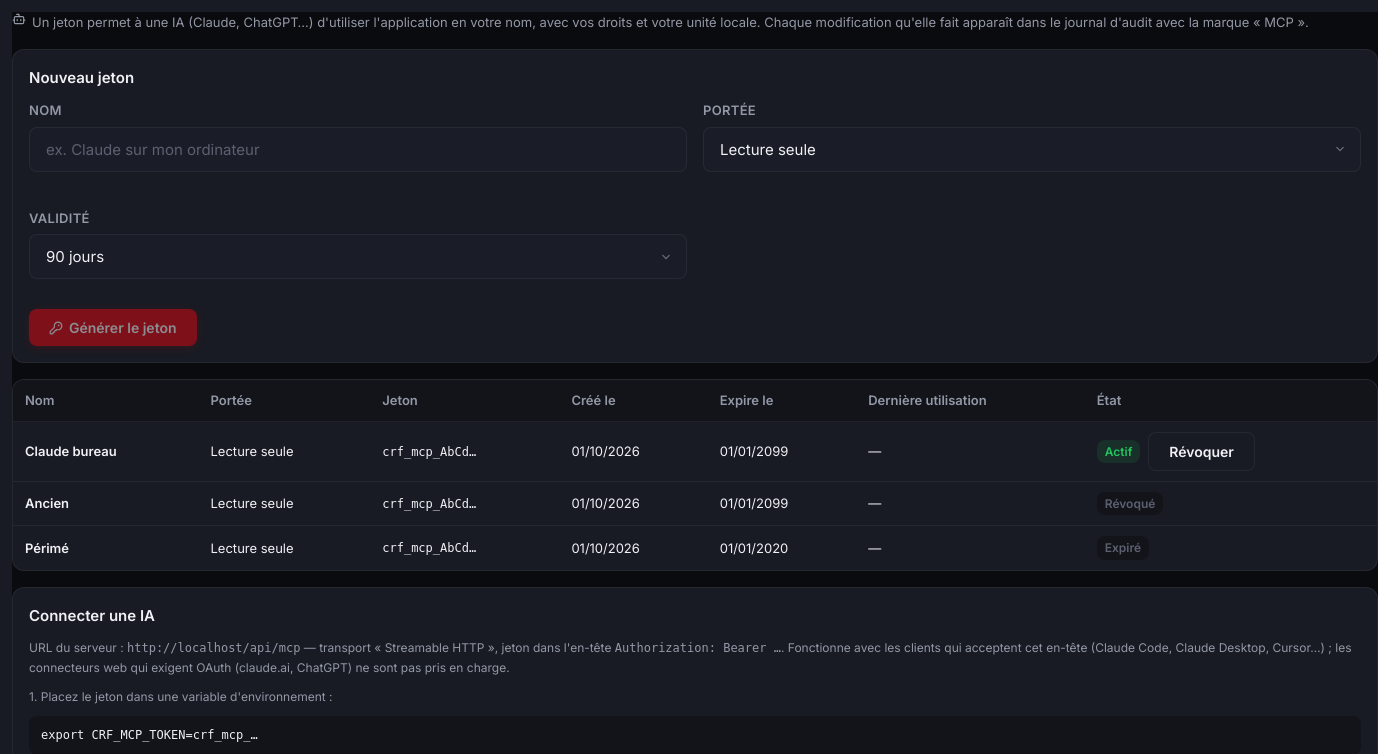
Test: McpTokensTab › signale un échec de copie dans le presse-papiers
This screenshot has width=1378, height=754.
Check: the text "Claude bureau" is shown, box [13,422,198,482]
Type "x" into the field labelled "Nom" at (358, 149), box [29,127,687,172]
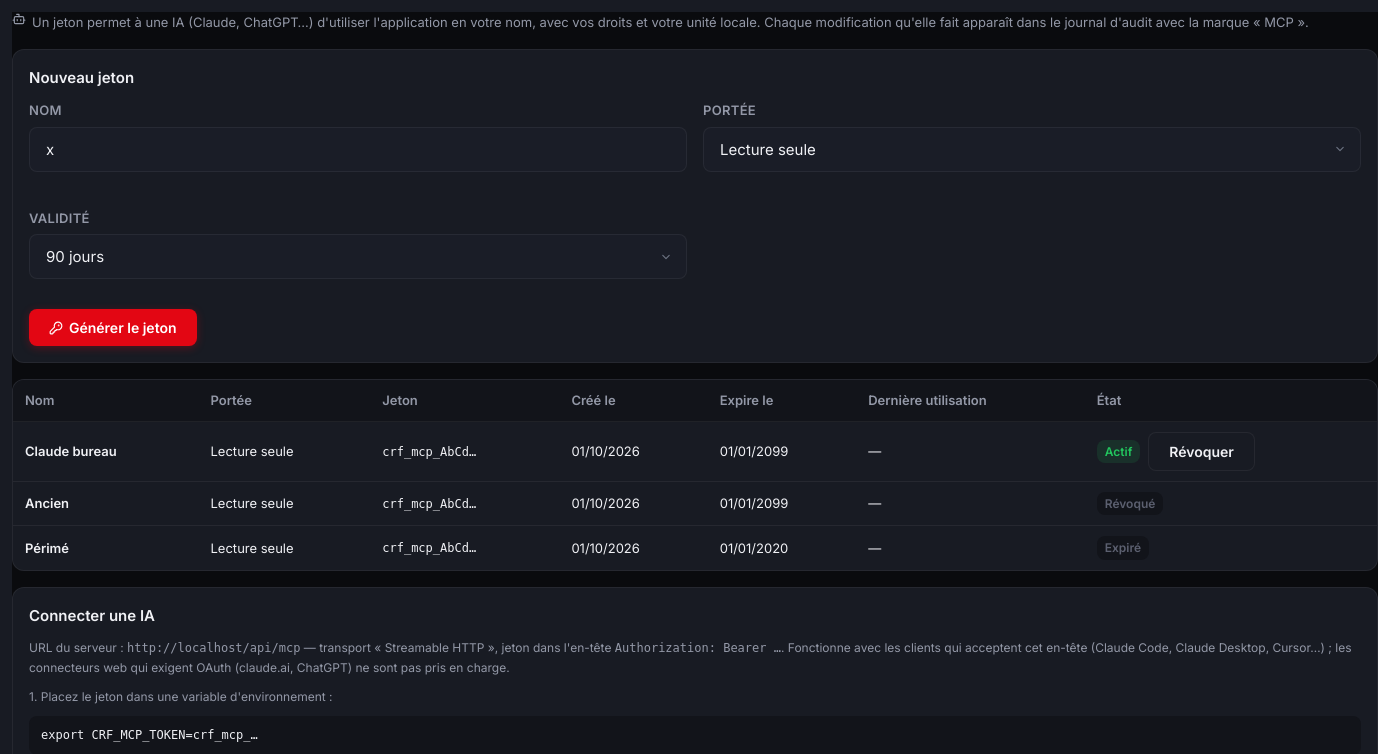
Click the button "Générer le jeton" at (113, 328), box [29,309,196,346]
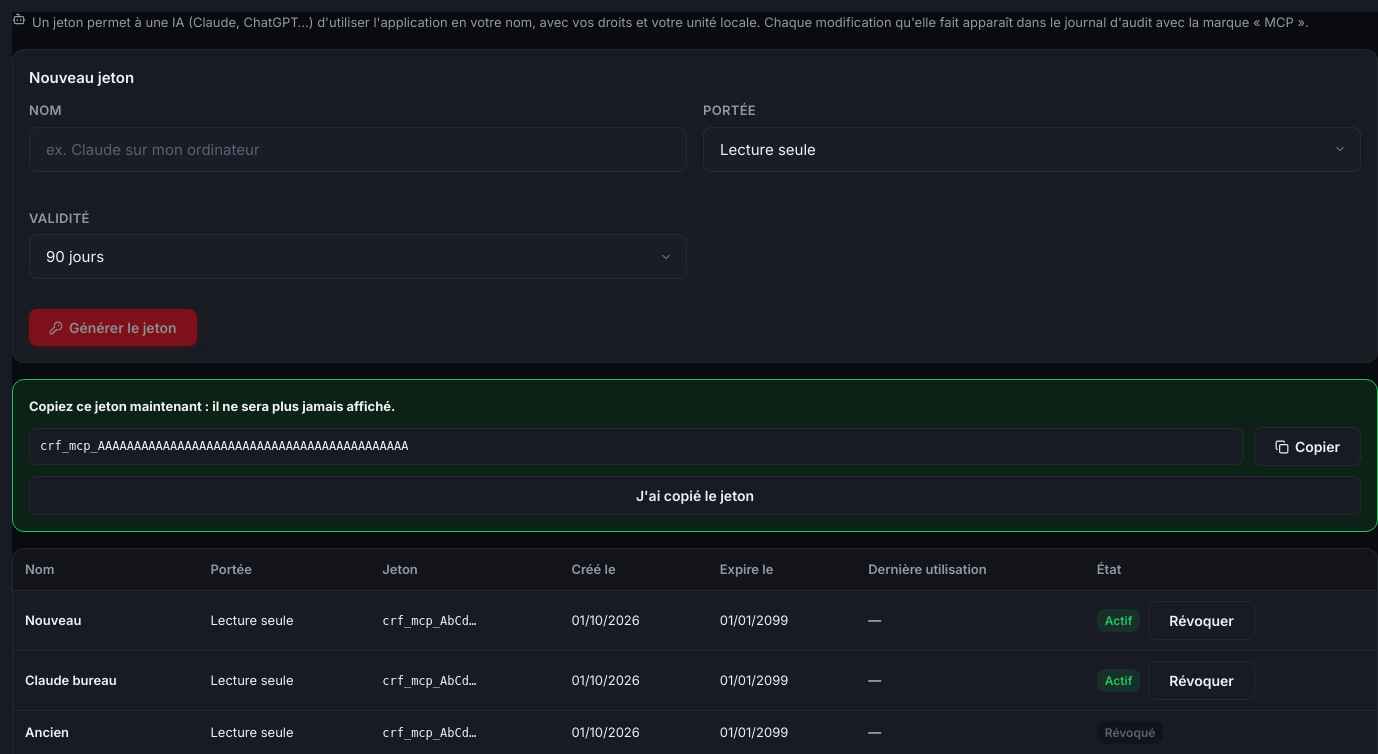
Click the button "Copier" at (1307, 447), box [1254,427,1361,466]
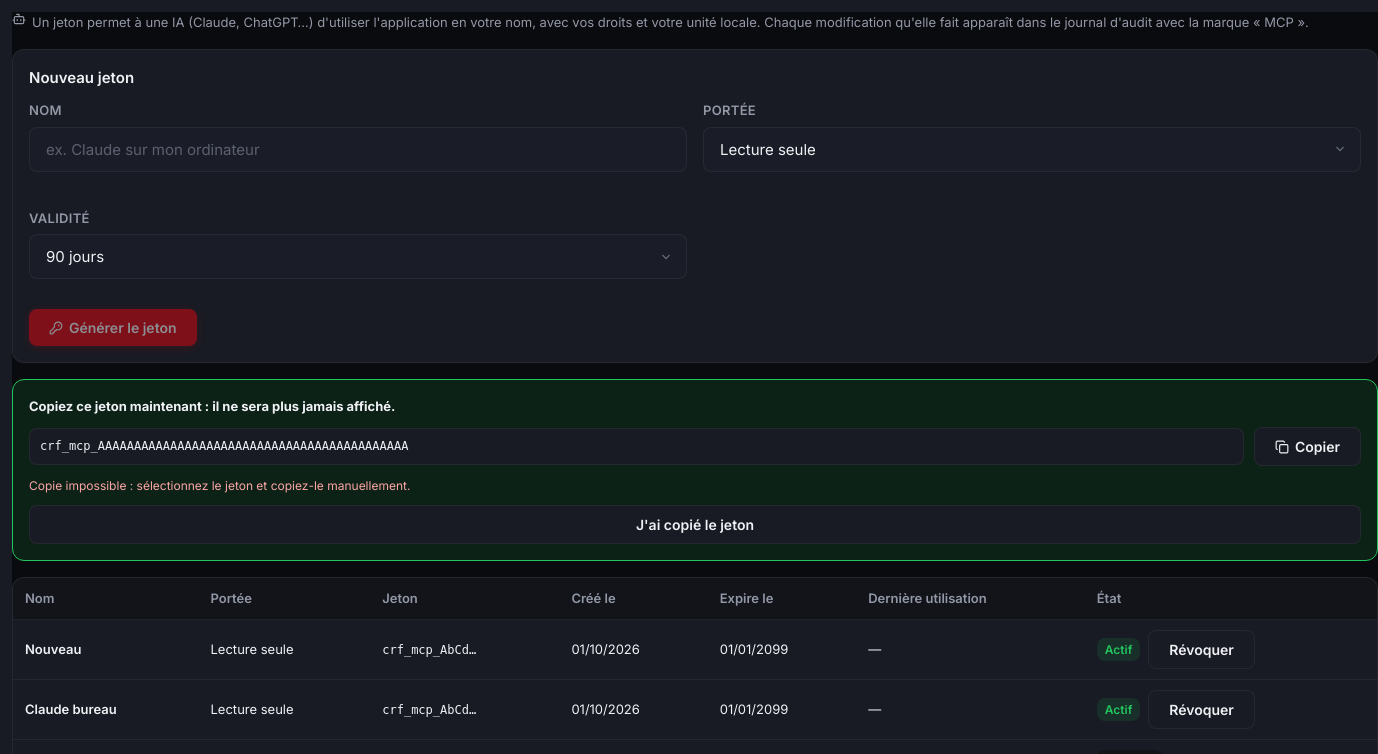
Check: the text "Copie impossible : sélectionnez le jeton et copiez-le manuellement." is shown, box [29,478,410,493]
